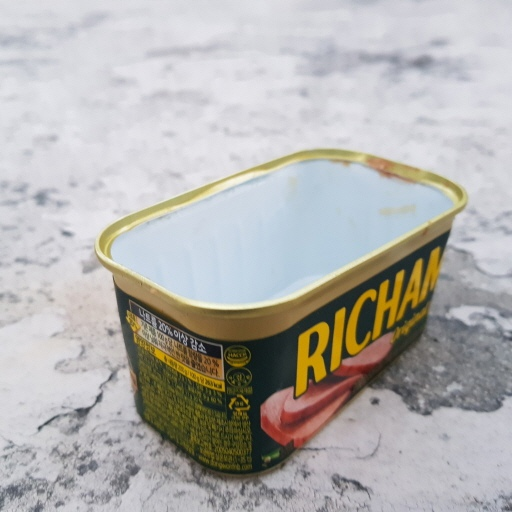Metal_2: (97, 148, 470, 477)
